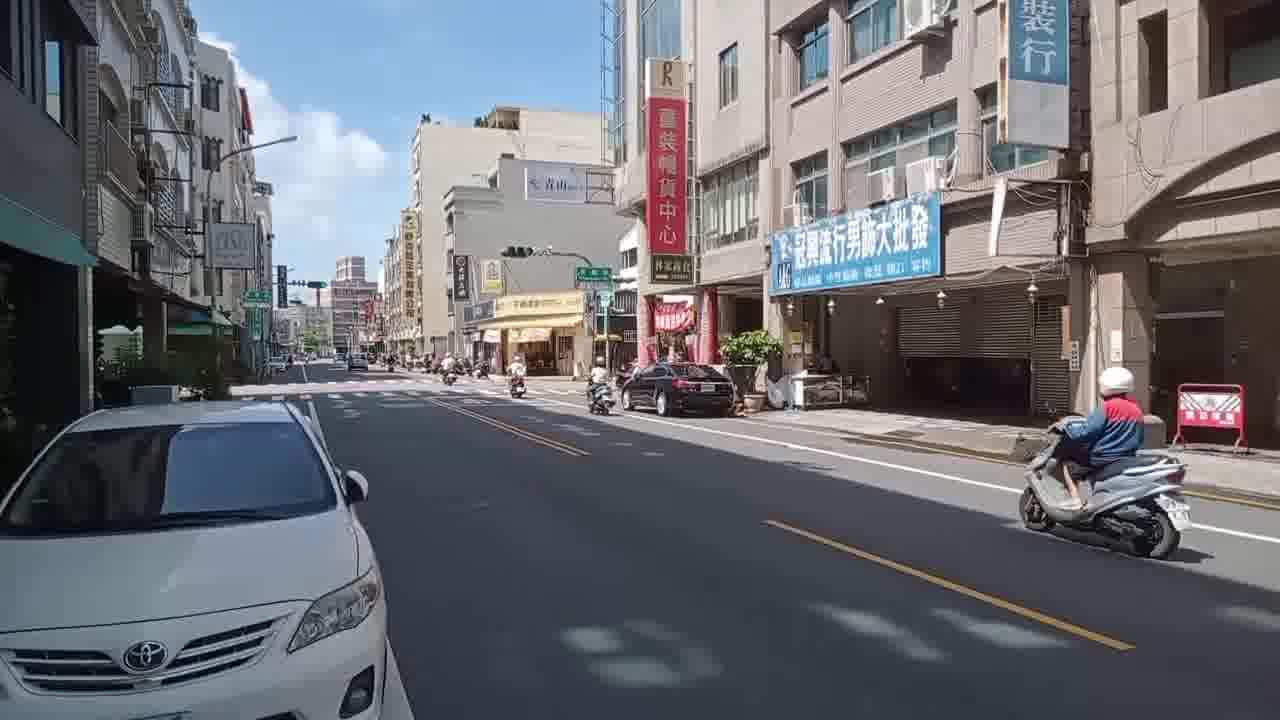driver: (995, 356, 1196, 567)
helmet: (1098, 367, 1135, 401)
